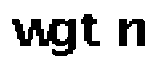g: (50, 16, 79, 60)
n: (115, 14, 147, 48)
t: (79, 7, 101, 53)
w: (7, 14, 55, 49)
